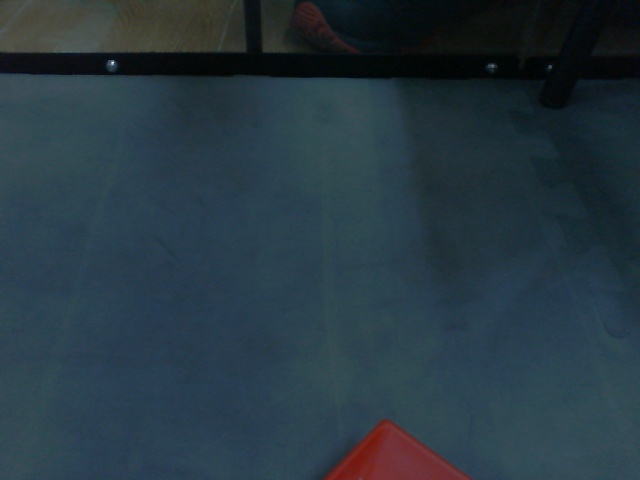RedSample: (314, 416, 478, 480)
